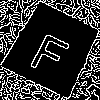F: (27, 24, 76, 78)
